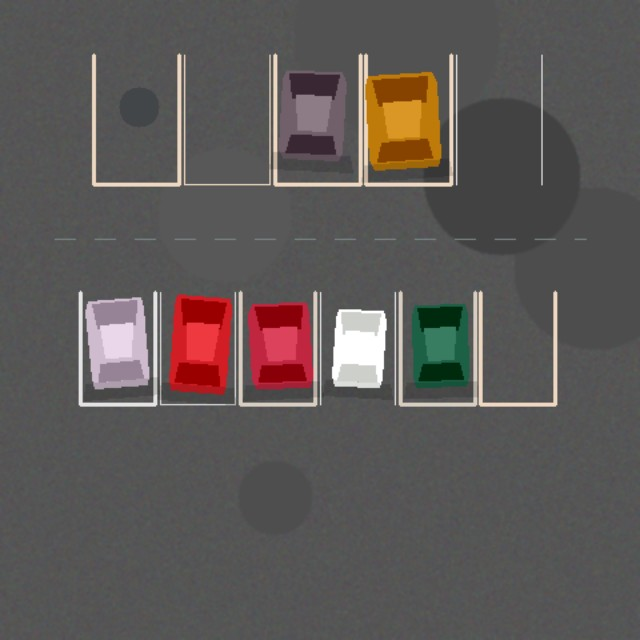space-empty: (93, 55, 179, 184), (184, 55, 269, 184), (456, 55, 541, 184), (480, 292, 555, 404)
space-occupied: (365, 55, 451, 184), (275, 55, 360, 184), (80, 292, 155, 404), (160, 292, 235, 404), (240, 292, 315, 404), (320, 292, 395, 404), (400, 292, 475, 404)
